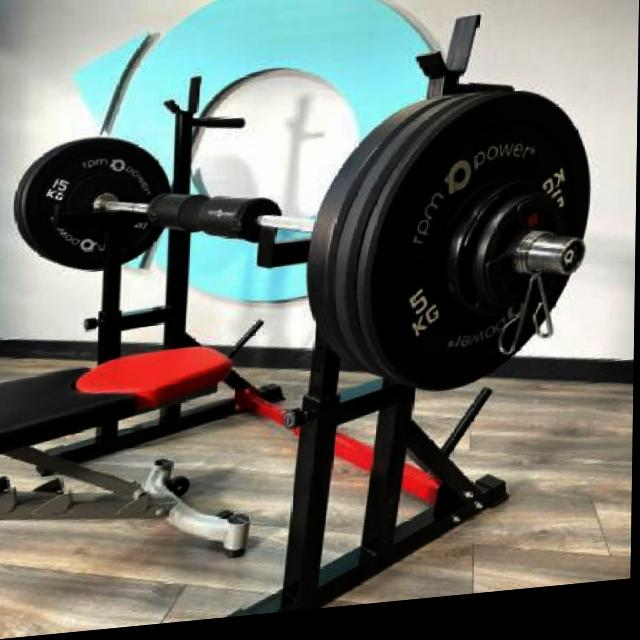barbell: (344, 91, 592, 413)
